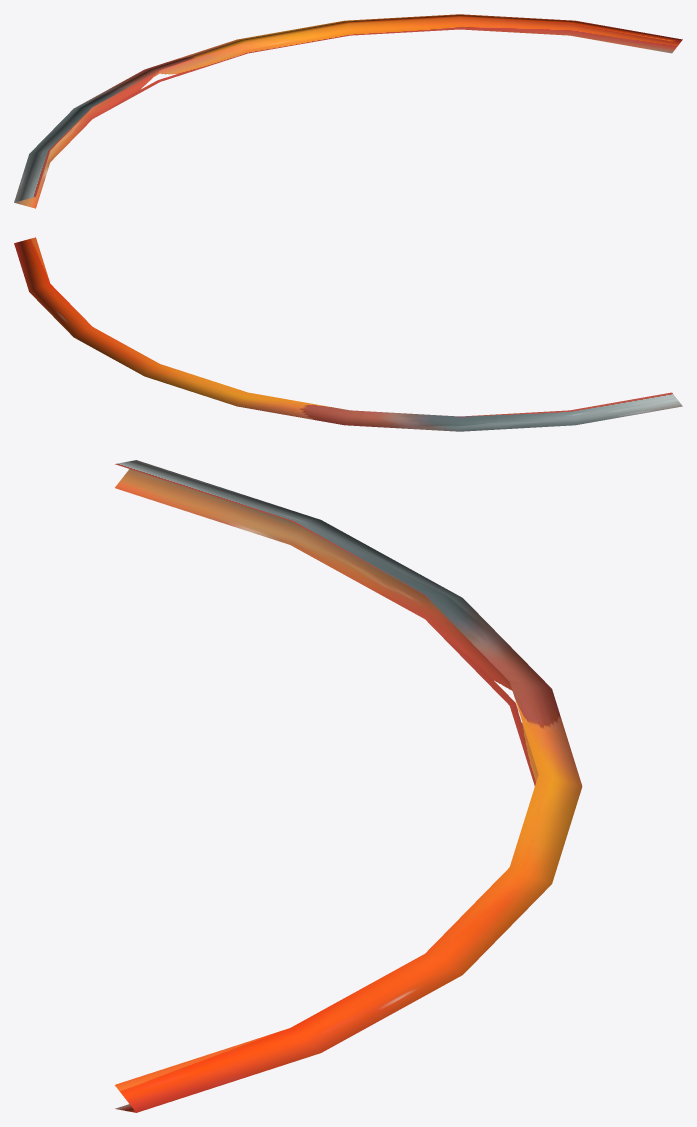
3 renders of one model, top to bottom at view 1: azimuth 30°, elevation 25°; view 2: azimuth 150°, elevation 25°; view 3: azimuth 270°, elevation 25°, orthographic. The views are drawn at different scales.
Visible parts, largest first — view 1: SM_Bloodwood_Sap_01_LOD0; view 2: SM_Bloodwood_Sap_01_LOD0; view 3: SM_Bloodwood_Sap_01_LOD0.
Part boxes in pixels (box(x1,y1,x2,y2)): SM_Bloodwood_Sap_01_LOD0: box(14, 14, 682, 208); SM_Bloodwood_Sap_01_LOD0: box(14, 237, 682, 431); SM_Bloodwood_Sap_01_LOD0: box(115, 460, 582, 1112).
Size of the model in its own units: 3.52 by 0.0602 by 1.07.
